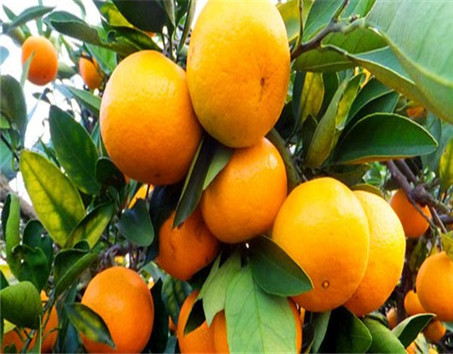orange: (187, 1, 289, 147), (99, 50, 200, 184), (273, 178, 367, 311), (325, 189, 405, 313), (199, 134, 288, 242), (143, 180, 225, 280), (79, 266, 151, 354), (212, 286, 303, 354), (175, 285, 223, 354), (416, 252, 453, 321), (389, 187, 430, 234), (21, 35, 59, 85), (79, 41, 114, 89)
